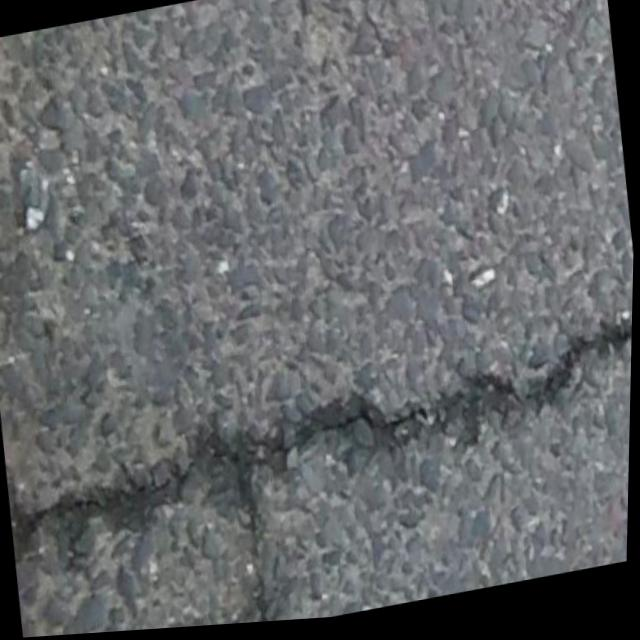Crack: (0, 295, 634, 600)
